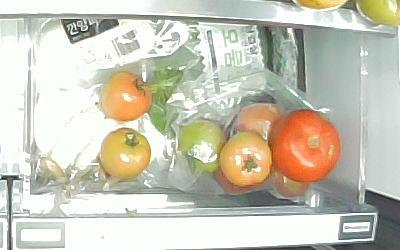tomato: (268, 110, 343, 184), (219, 131, 274, 189), (97, 127, 152, 180), (96, 71, 153, 121)
tomato_vinyl: (177, 118, 227, 177), (235, 103, 282, 142), (269, 166, 311, 199)
